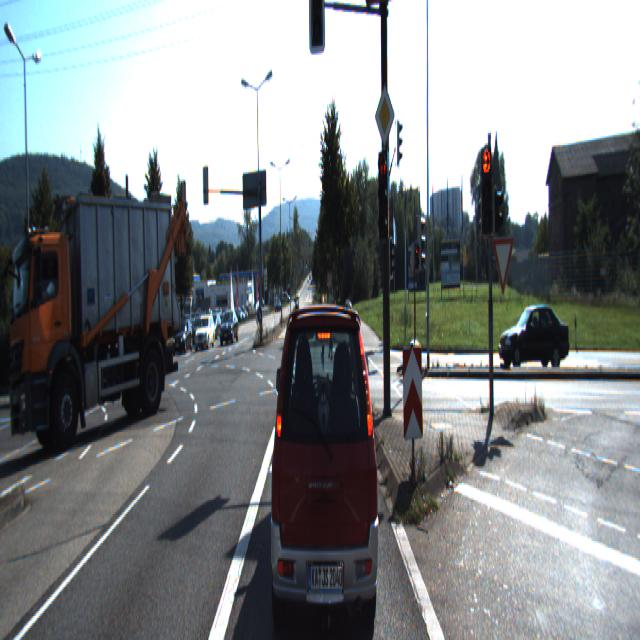Car: (7, 180, 189, 453), (267, 280, 382, 638), (498, 300, 570, 376), (195, 316, 215, 350), (172, 321, 192, 355), (219, 309, 239, 343)
